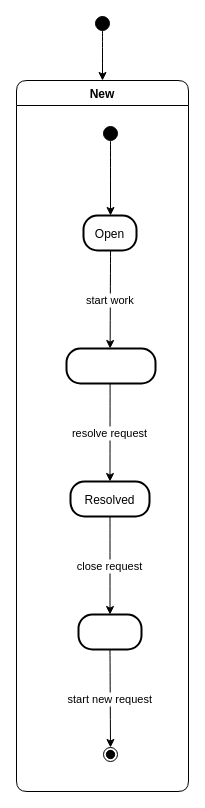
Some shapes in this 205 by 808 pixel diagram are drawn without their labels. The box of each missing label's shape, as (x1, y1, x2, y2) in pixels:
Closed: (77, 613, 142, 650)
InProgress: (65, 347, 156, 384)
